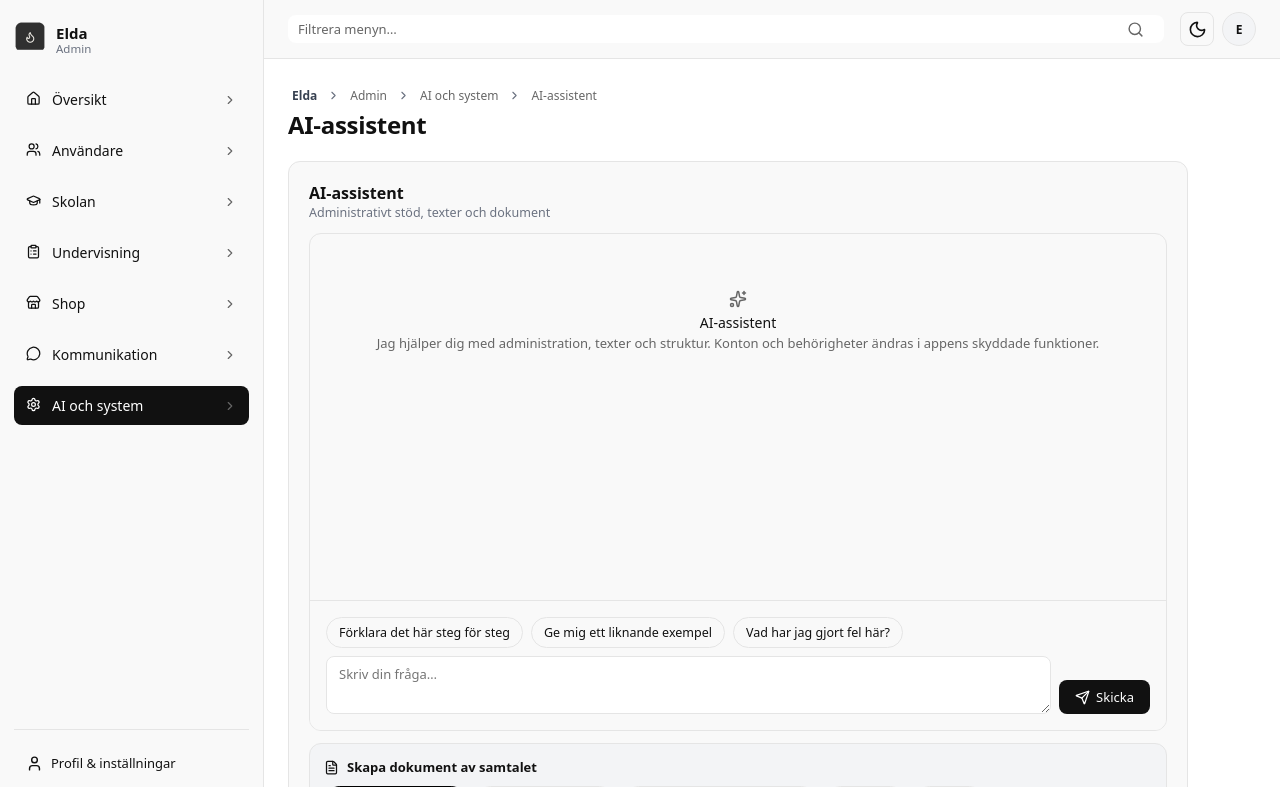
it: adminpanelens AI-assistent › svarar på en fråga och visar serverns fel när AI-tjänsten inte svarar
In the text box labelled "fråga": (689, 685) [326,656,1051,714], type "Vad är ett bråk?"
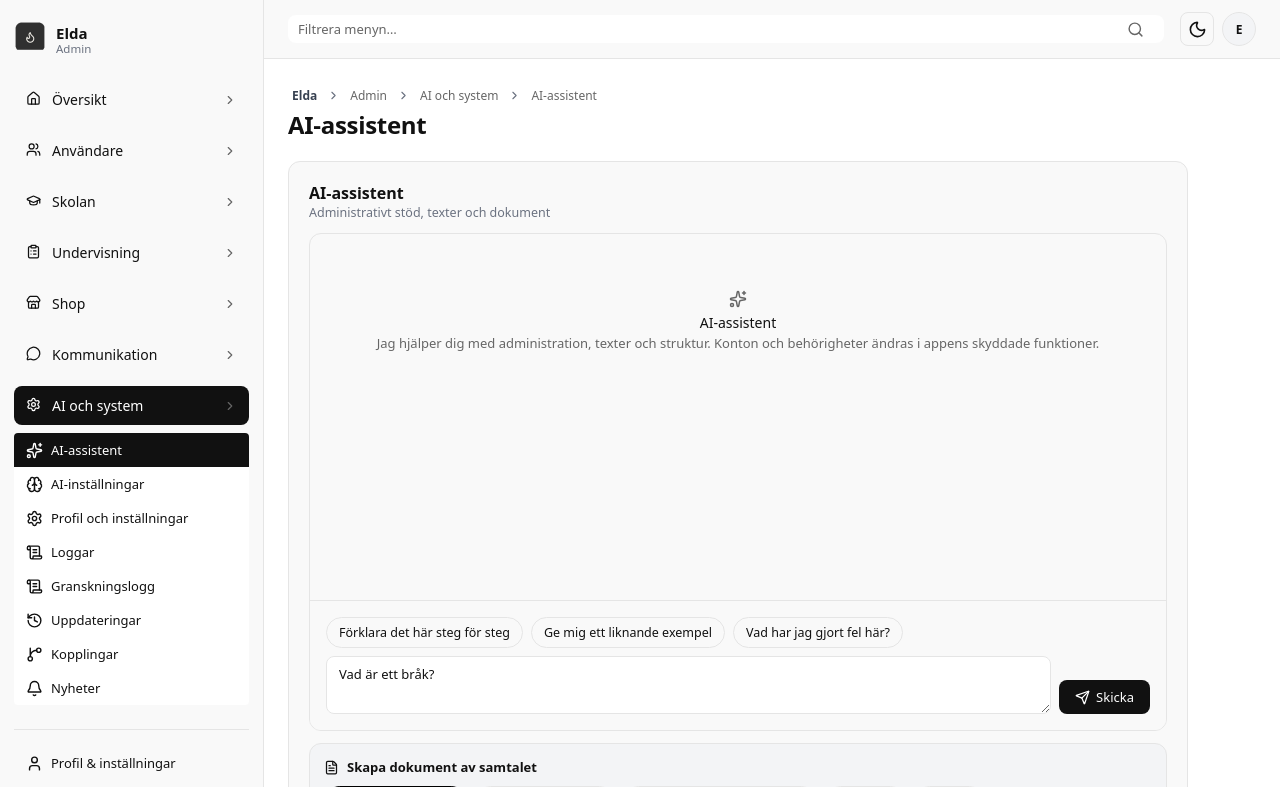
Click the button "Skicka": (1105, 697) [1059,680,1150,714]
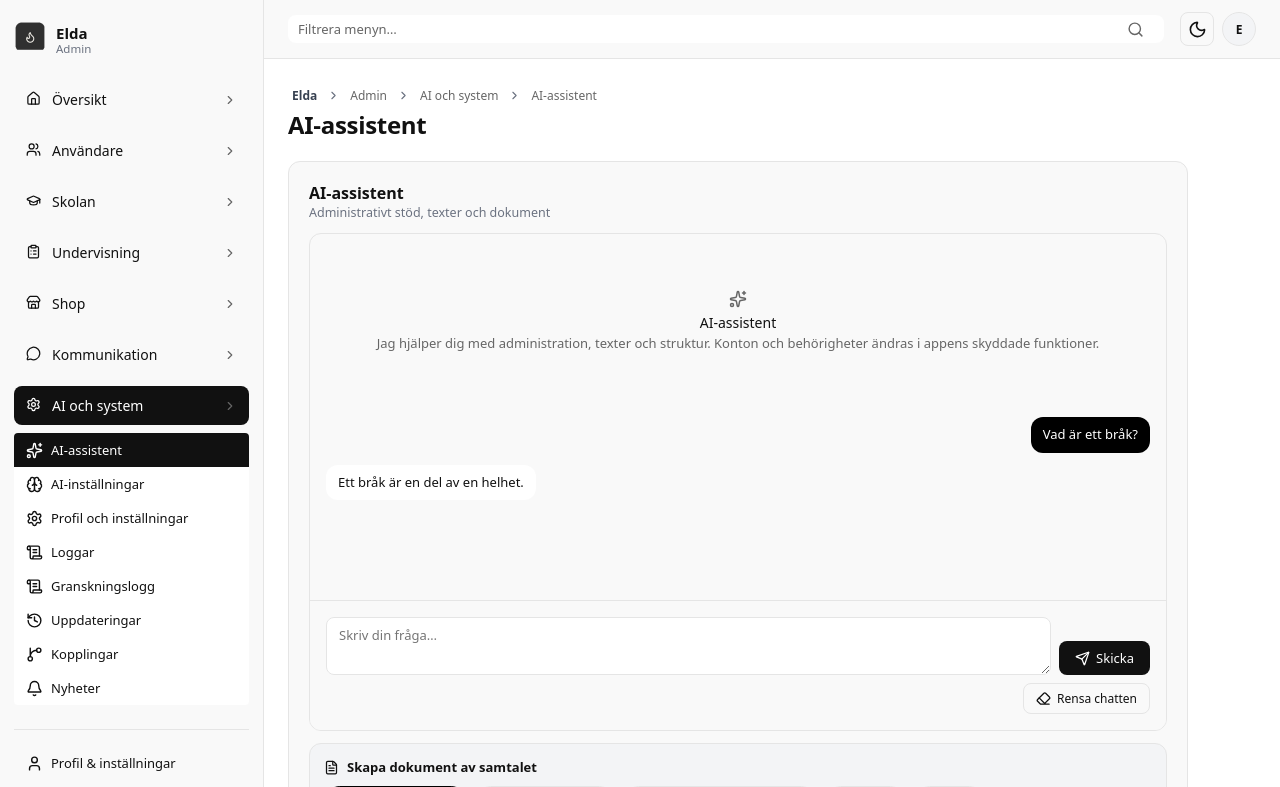
Check: the element with test id "ai-chat-admin" is shown, box [309,233,1167,731]
Check: the text "Ett bråk är en del av en helhet." is shown, box [326,464,536,500]
In the text box labelled "fråga": (689, 646) [326,617,1051,675], type "Igen?"
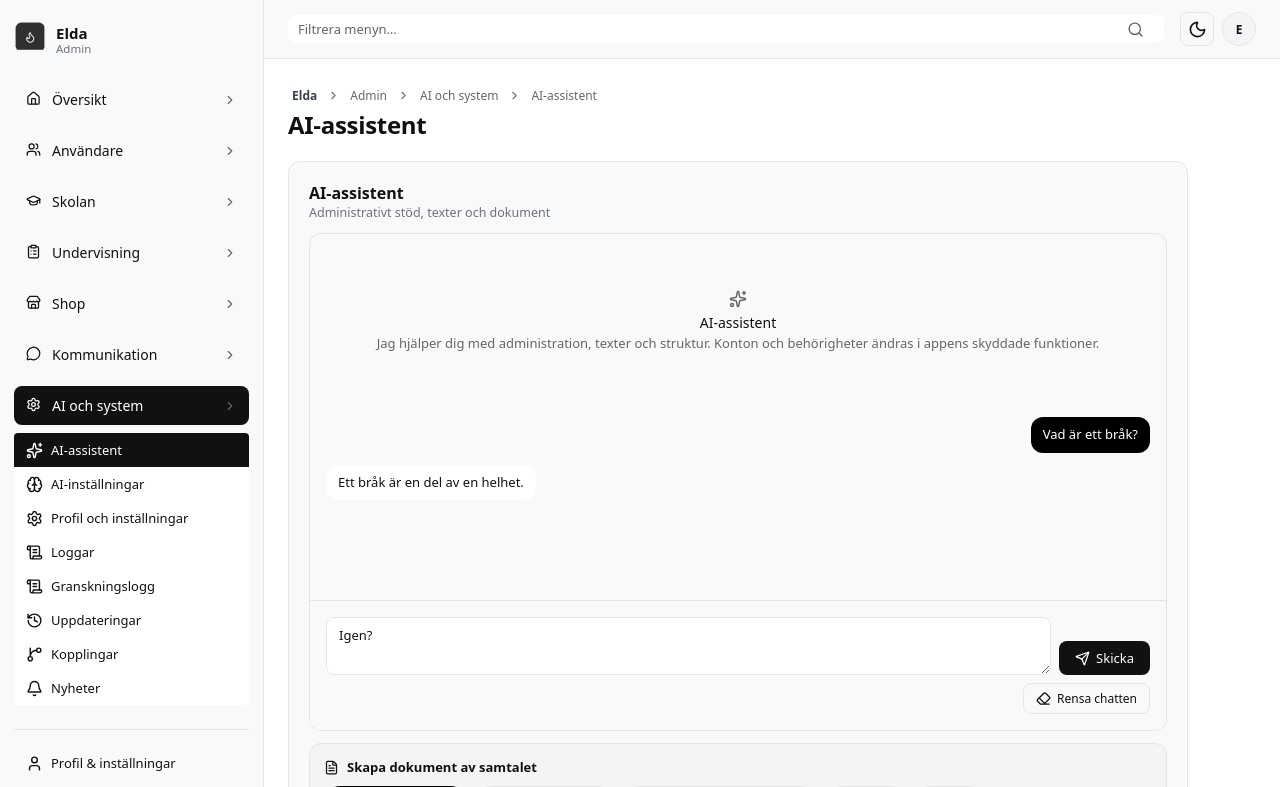
Click the button "Skicka": (1105, 658) [1059,641,1150,675]
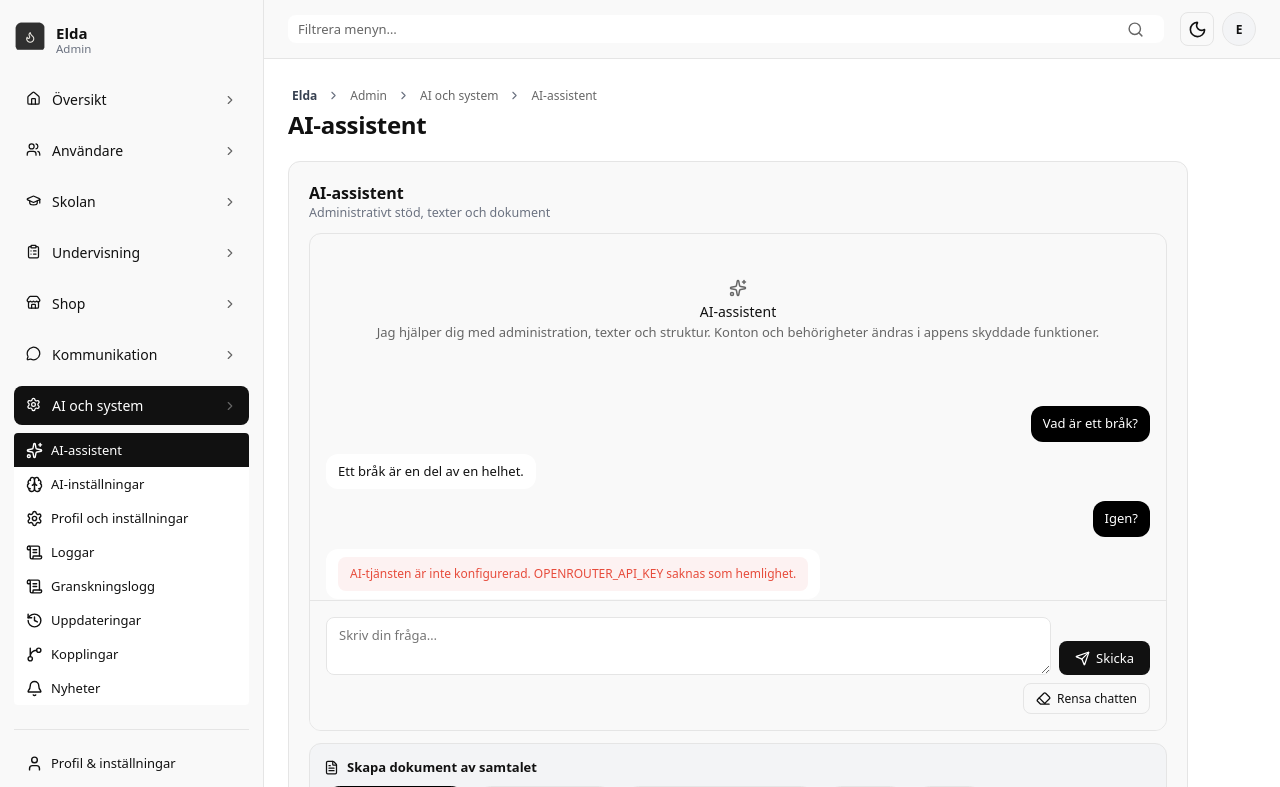
Check: the element with test id "ai-error" shows "inte konfigurerad", box [350,564,796,582]
Check: the element with test id "ai-error" shows "OPENROUTER_API_KEY", box [350,564,796,582]
